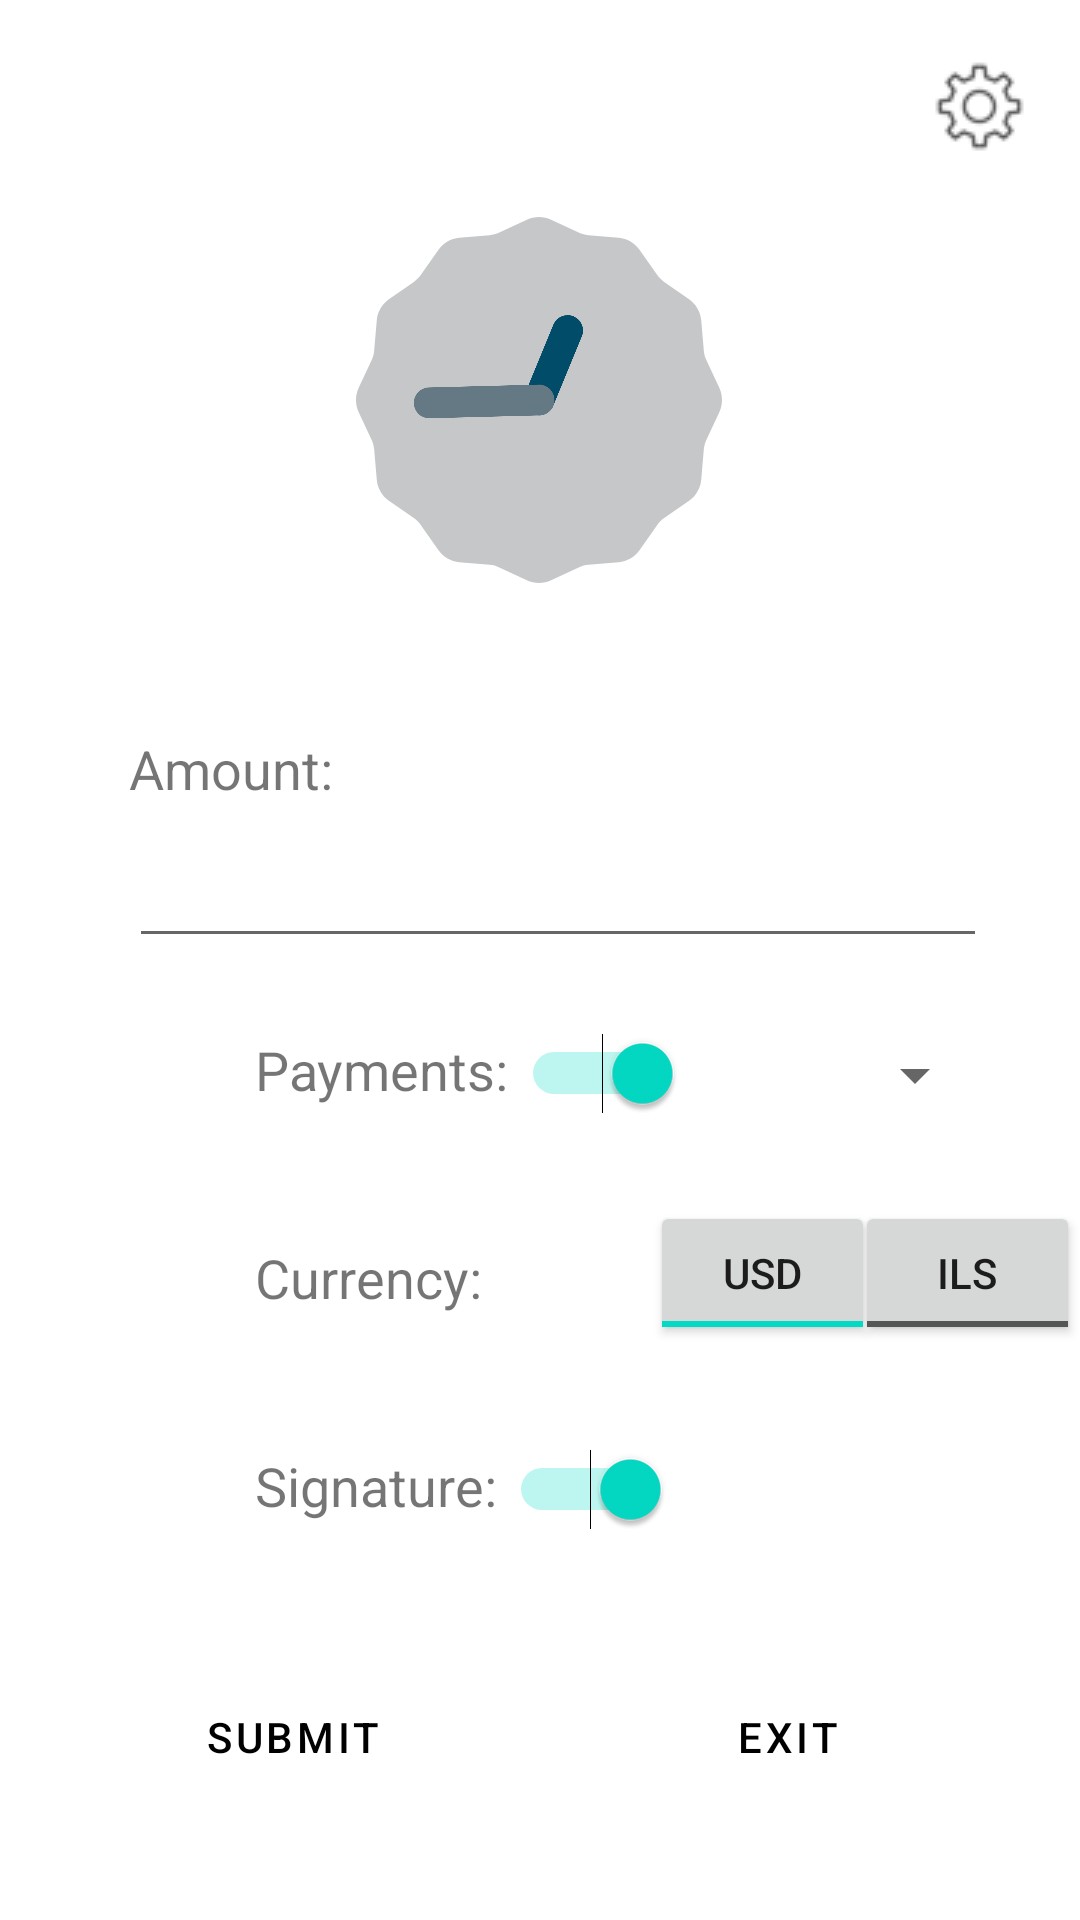

Screen size 1080×1920. Icon name, then its box in pixels as rect(x1, y1, x2, y2):
Navigate To Settings: rect(936, 63, 1023, 150)
